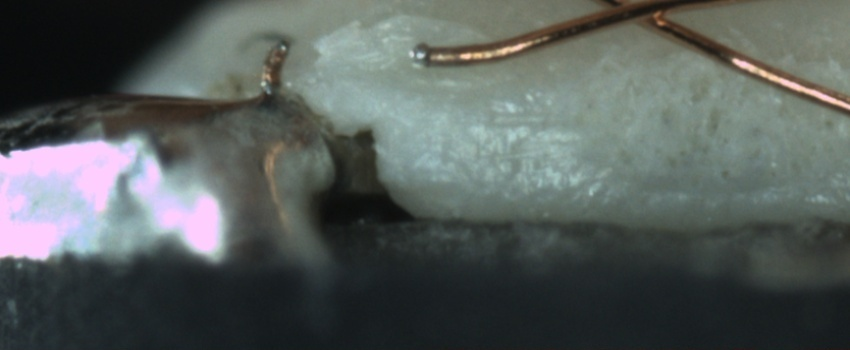CL: (597, 0, 690, 31)
DL: (432, 94, 593, 149)
